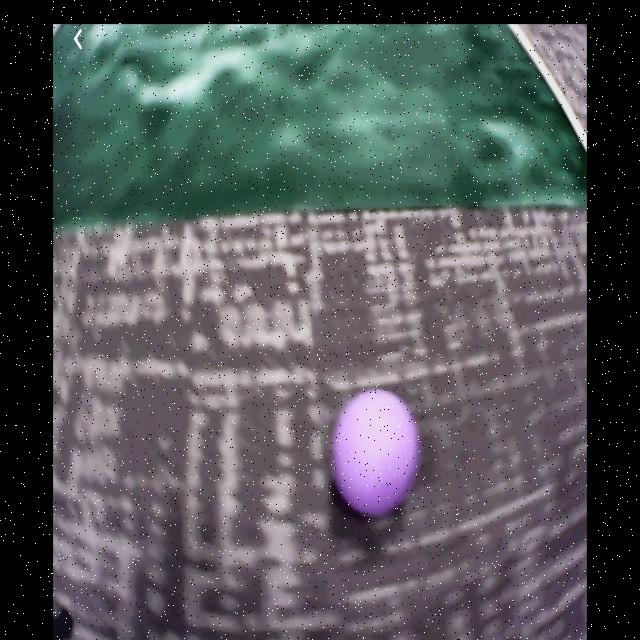ball: (335, 390, 423, 516)
